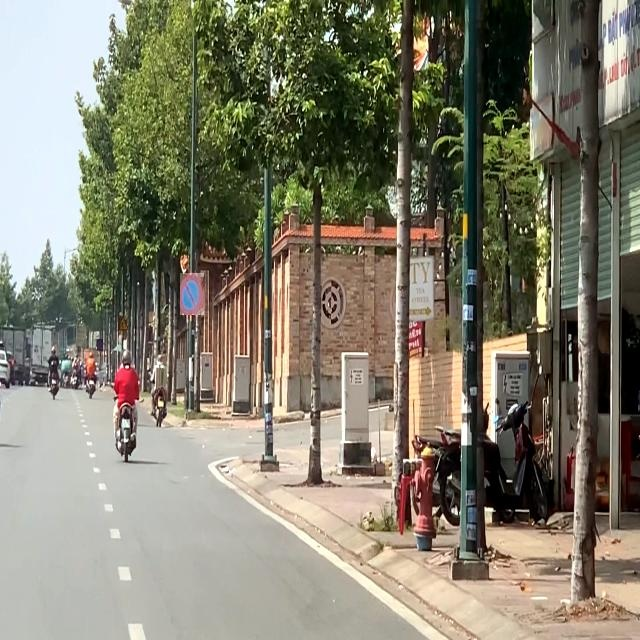bien_cam: (180, 273, 204, 315), (118, 316, 128, 331), (97, 339, 103, 351)
